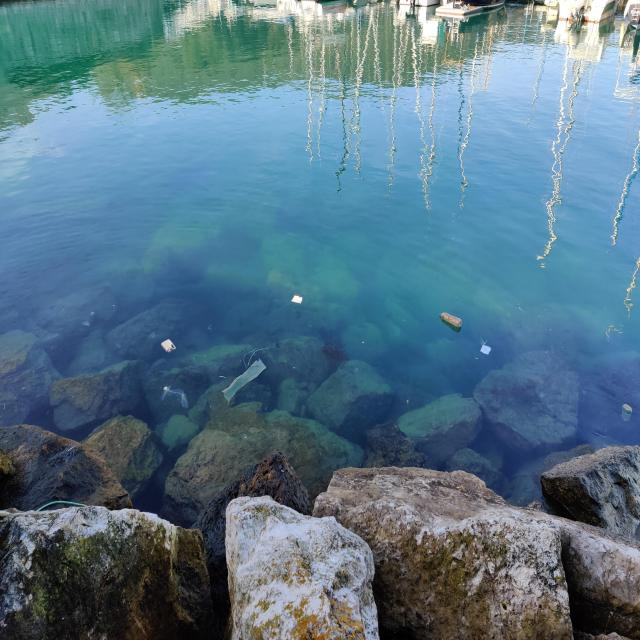litter: (221, 354, 270, 407), (439, 311, 464, 328), (290, 294, 305, 307), (621, 401, 634, 415), (480, 344, 493, 357)
